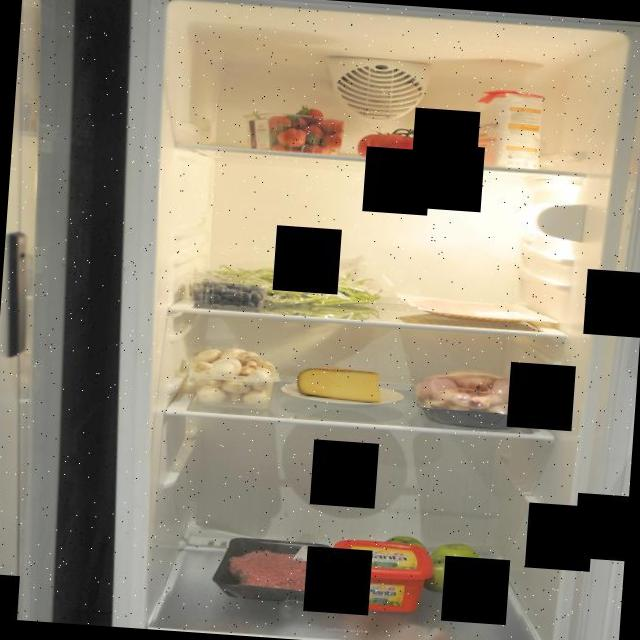Carne cerdo: (389, 290, 558, 327)
Carne pollo: (409, 364, 542, 432)
Champiñones: (190, 344, 278, 412)
Mantequilla: (322, 533, 439, 623)
Manzana: (386, 534, 482, 590)
Queso: (294, 364, 386, 406)
Tomate: (357, 120, 464, 163)
